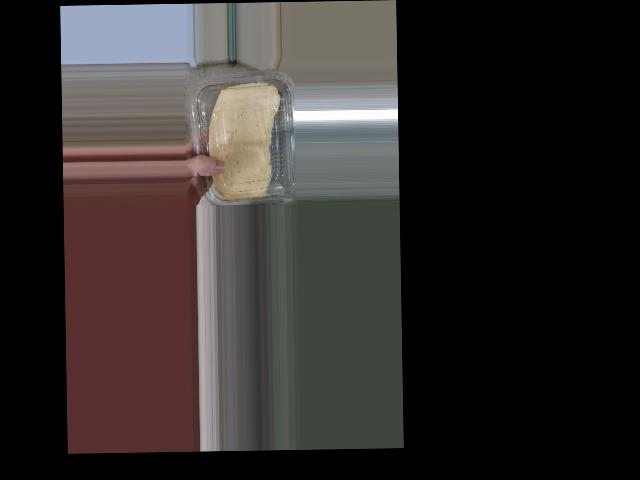cheese: (201, 69, 296, 206)
